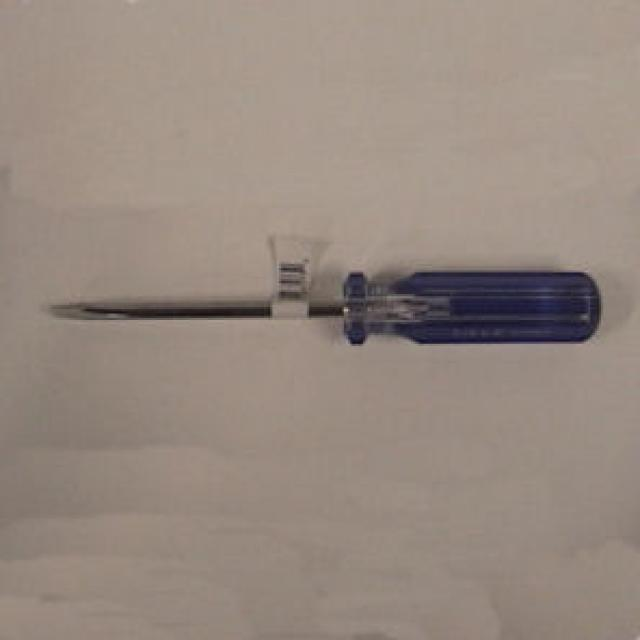screw driver: (37, 231, 640, 403)
